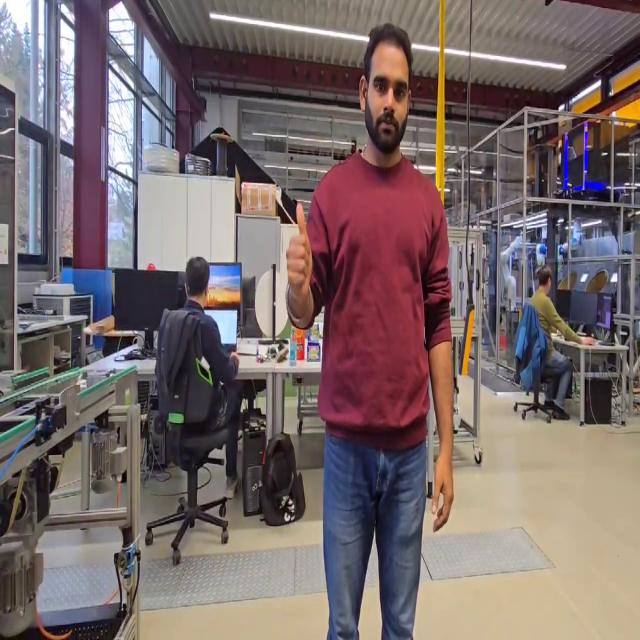thumbs_up: (283, 196, 315, 306)
